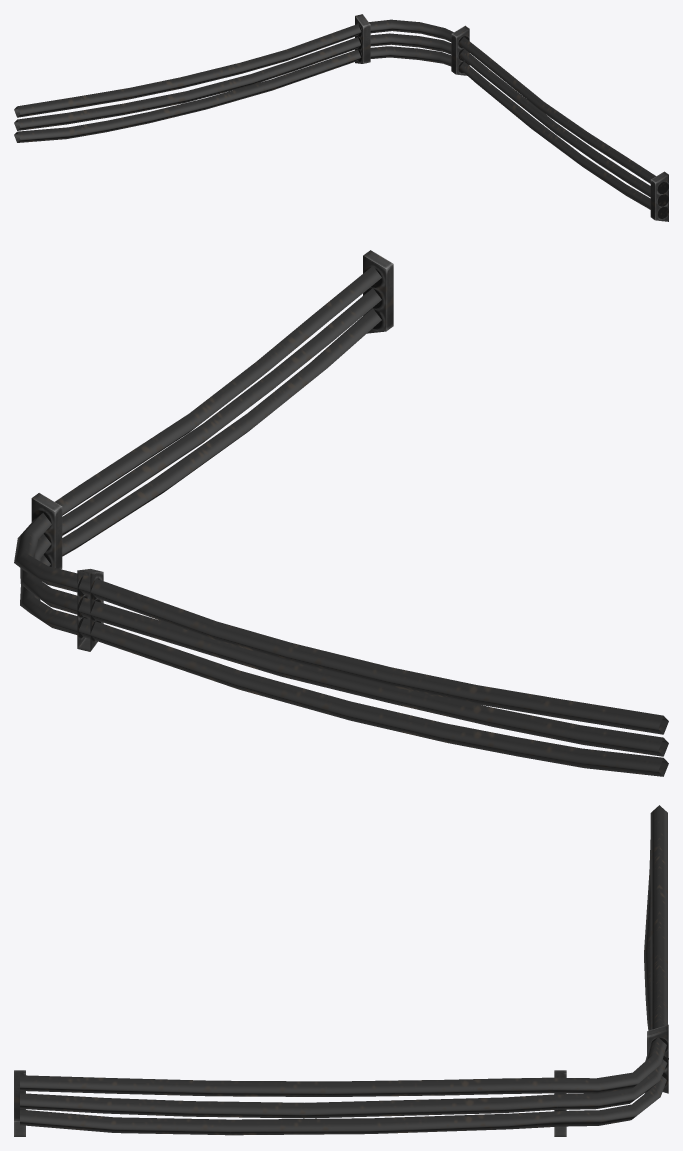
File: cableWall01_cornerIns.FBX
3 views of the same model, one above another, from view 1: azimuth 30°, elevation 25°; view 2: azimuth 150°, elevation 25°; view 3: azimuth 270°, elevation 25° (orthographic). The views are drawn at different scales.
Parts seen in each view (by area): view 1: cableWall01_cornerIns; view 2: cableWall01_cornerIns; view 3: cableWall01_cornerIns.
Part boxes in pixels (bbox=[...]): cableWall01_cornerIns: bbox=[14, 14, 668, 221]; cableWall01_cornerIns: bbox=[14, 250, 668, 776]; cableWall01_cornerIns: bbox=[14, 805, 668, 1136].
Bounding box in the file's own units: 300 × 37.26 × 303.
